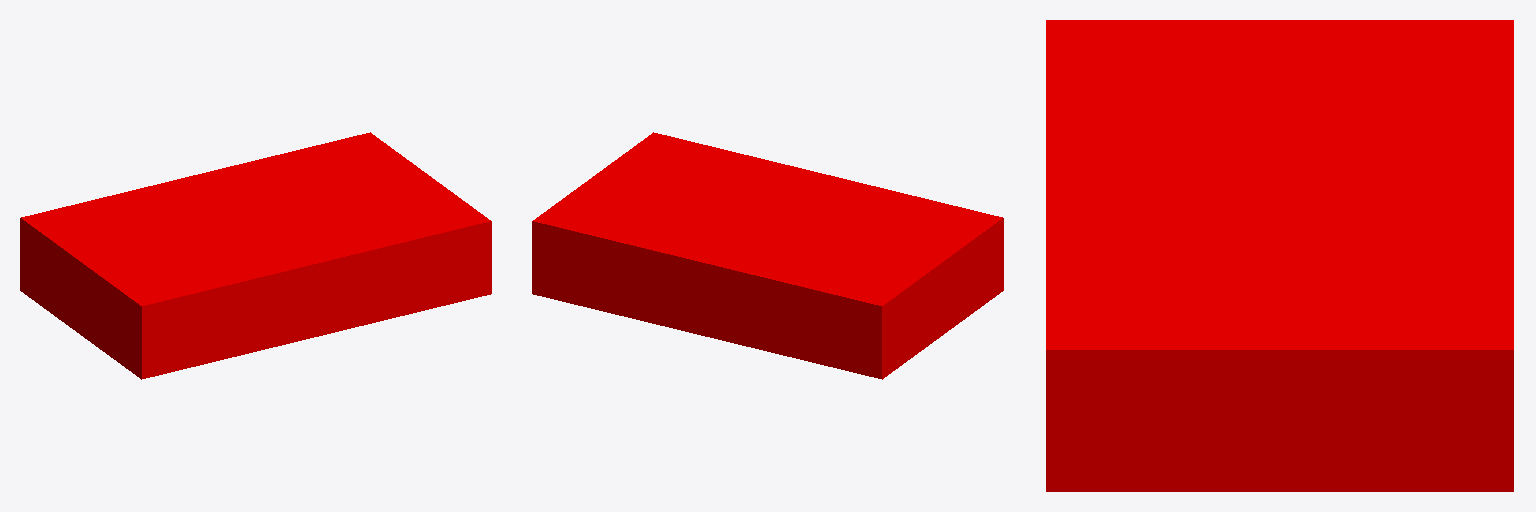
robot.urdf — first_robot:
<?xml version="1.0"?>

<robot name = "first_robot">
    <!-- 机器人的身体部件 -->
    <link name = "base_link">
        <!-- 部件的外观描述 -->
        <visual>
            <!-- 相对于它所属 link 原点的位置偏移 -->
            <origin xyz="0 0 0.1" rpy="0 0 0"/>
            <!-- 几何形状 -->
            <geometry>
                <box size="0.5 0.3 0.1"/>   <!-- 长0.5m 宽0.3m 高0.1m -->
            </geometry>
            <!-- 材质颜色 -->
            <material name="red">
                <color rgba="1 0 0 0.2"/>    <!-- 红 绿 蓝 透明度，范围0~1 -->
            </material>
        </visual>
        <!-- 惯性参数（Gazebo 仿真必须） -->
        <inertial>
            <origin xyz="0 0 0.1" rpy="0 0 0"/>
            <mass value="1.0"/>
            <inertia ixx="0.01" ixy="0.0" ixz="0.0"
                     iyy="0.01" iyz="0.0"
                     izz="0.01"/>
        </inertial>
    </link>

    <!-- 机器人的IMU部件 -->
    <link name = "imu_link">
        <!-- 部件的外观描述 -->
        <visual>
            <!-- 相对于它所属 link 原点的位置偏移 -->
            <origin xyz="0 0 0" rpy="0 0 0"/>
            <!-- 几何形状 -->
            <geometry>
                <box size="0.02 0.02 0.02"/>   <!-- 长0.02m 宽0.02m 高0.02m -->
            </geometry>
            <!-- 材质颜色 -->
            <material name="gray">
                <color rgba="0 0 0 0.5"/>
            </material>
        </visual>
        <!-- 惯性参数（Gazebo 仿真必须） -->
        <inertial>
            <origin xyz="0 0 0" rpy="0 0 0"/>
            <mass value="0.001"/>
            <inertia ixx="0.00001" ixy="0.0" ixz="0.0"
                     iyy="0.00001" iyz="0.0"
                     izz="0.00001"/>
        </inertial>
    </link>

    <!-- 机器人的关节，用于组合机器人的部件 -->
    <joint name = "imu_joint" type = "fixed">
        <parent link = "base_link"/>
        <child link = "imu_link"/>
        <origin xyz="0 0 0.03" rpy="0 0 0"/> <!-- child(imu_link) 相对于 parent(base_link) 的偏移 -->
    </joint>
</robot>

--- Render facts (derived) ---
Views: 3 orthographic renders of the robot side by side, from view 1: azimuth 30°, elevation 25°; view 2: azimuth 150°, elevation 25°; view 3: azimuth 270°, elevation 25°.
Robot: first_robot — 2 links, 1 joints (1 fixed); root link base_link; default pose: all joints at 0.
Links seen in each view (by area): view 1: base_link; view 2: base_link; view 3: base_link.
Boxes of the visible links, left/top/right/bottom form: base_link: left=20, top=132, right=491, bottom=379; base_link: left=532, top=132, right=1003, bottom=379; base_link: left=1046, top=20, right=1513, bottom=491.
Size in the robot's own frame: 0.5 by 0.3 by 0.13 metres.
Geometry: primitives only (box / cylinder / sphere), no mesh files.
